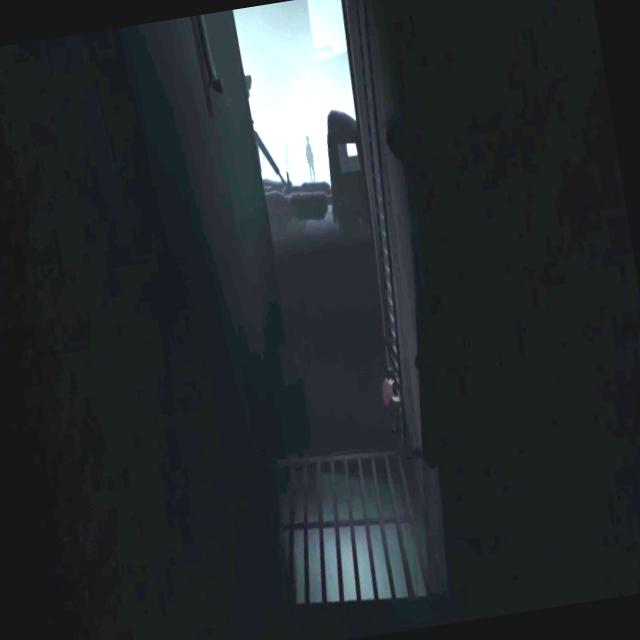boy: (378, 366, 406, 434)
zombie: (302, 134, 317, 182), (279, 134, 294, 180), (310, 136, 320, 176)
